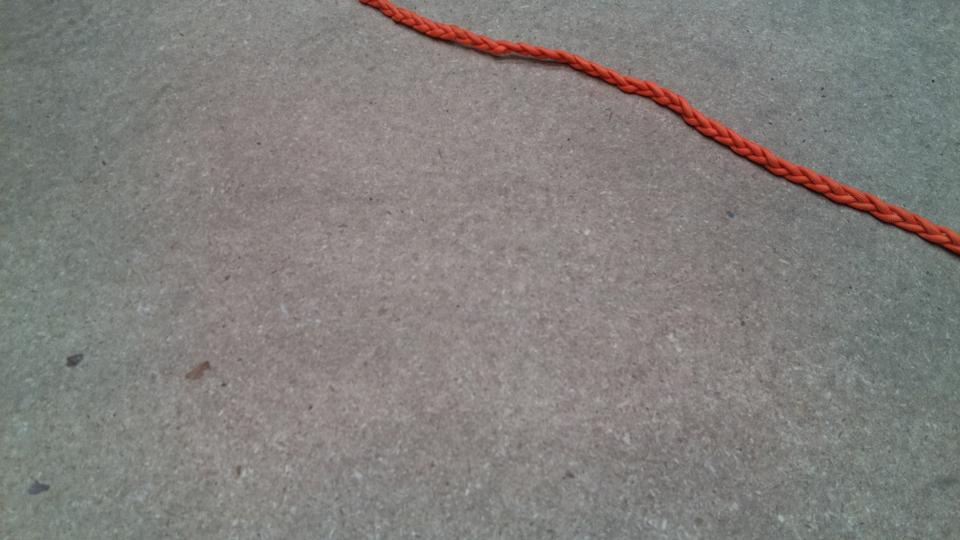rope: (381, 1, 960, 243)
